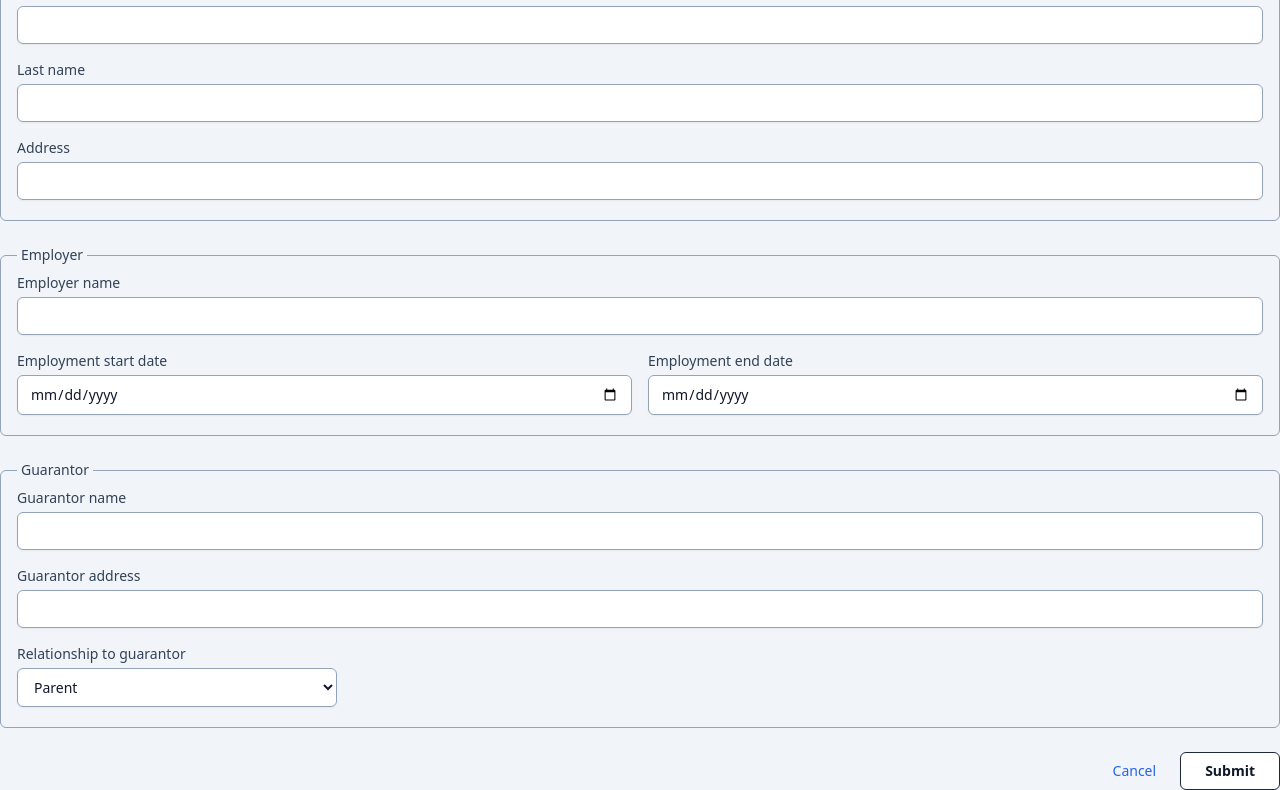
Test: <ReferenceForm /> › blocks submission and surfaces validation errors when empty
The width and height of the screenshot is (1280, 790).
(page scrolled)
Step 1. Click the button "Submit" → click(1230, 771), box [1180,752,1279,789]
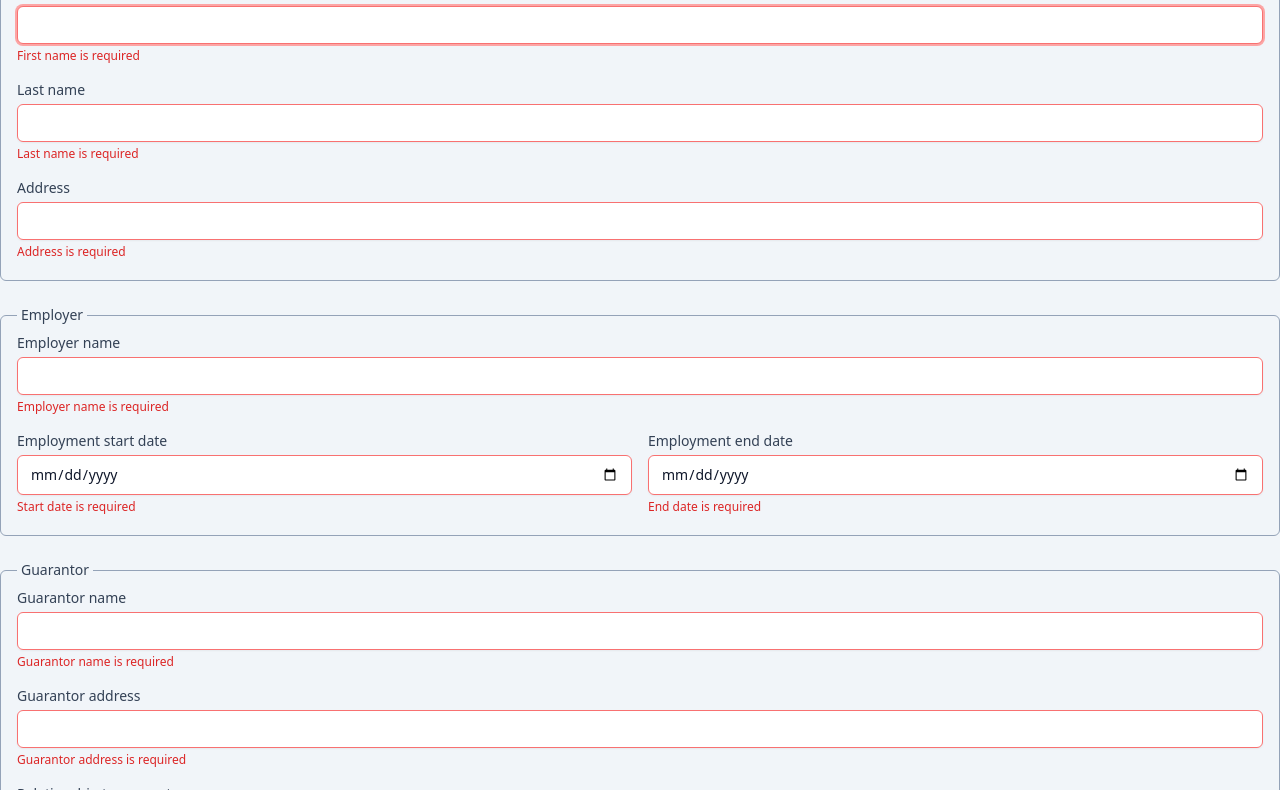
Expected: the text "First name is required" is shown, [17,47,140,64]
